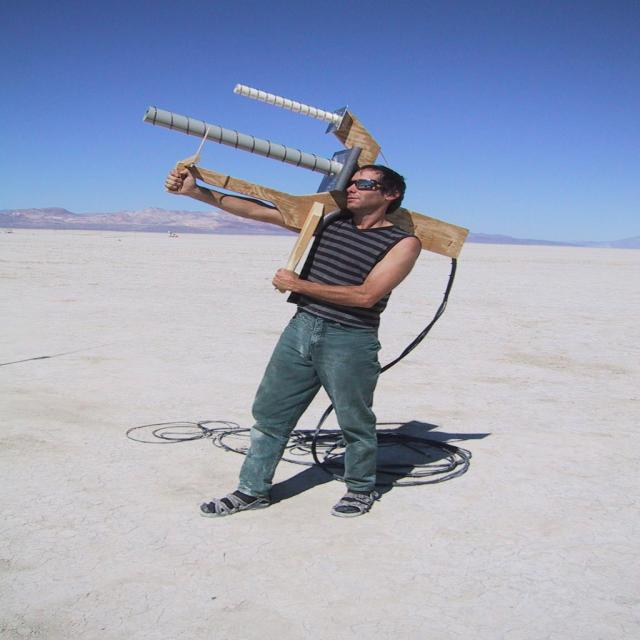nomask: (346, 169, 379, 211)
